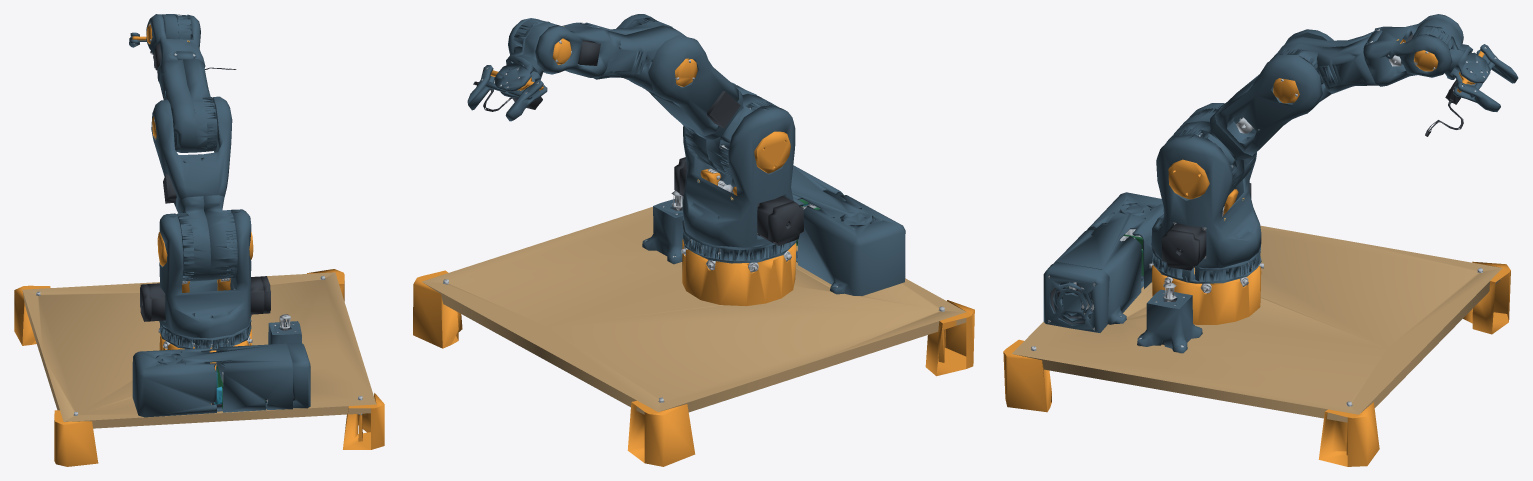
File: Moveo_LOD2.fbx
3 views of the same model, side by side, from view 1: azimuth 30°, elevation 25°; view 2: azimuth 150°, elevation 25°; view 3: azimuth 270°, elevation 25° (orthographic). The views are drawn at different scales.
Parts seen in each view (by area): view 1: MM_Moveo_mobile_overview; view 2: MM_Moveo_mobile_overview; view 3: MM_Moveo_mobile_overview.
Part boxes in pixels (x1,y1,x2,y2): MM_Moveo_mobile_overview: (14,14,384,466); MM_Moveo_mobile_overview: (413,14,974,466); MM_Moveo_mobile_overview: (1003,14,1518,466).
Bounding box in the file's own units: 0.7437 × 0.5914 × 0.7539.
